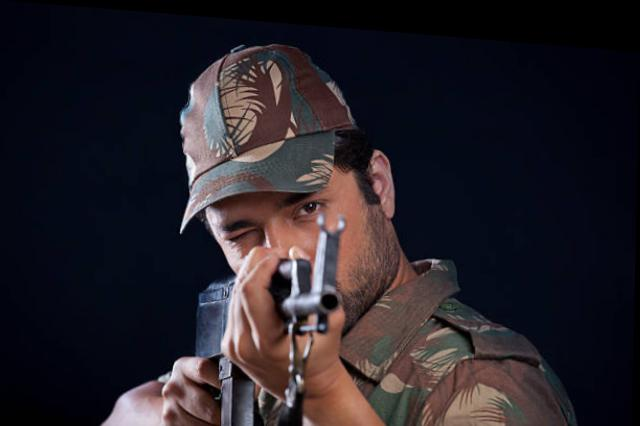other: (159, 42, 489, 424)
